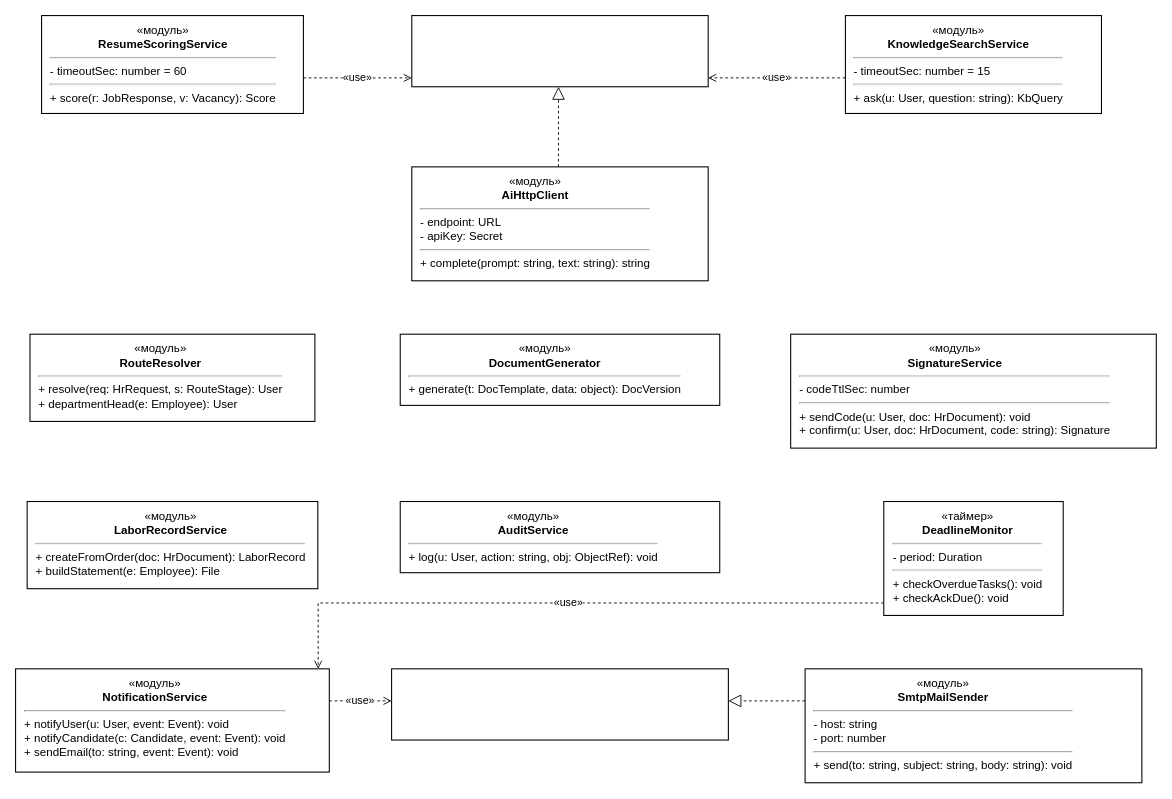
Image size: 1172x799. Some labels were removed from this diagram. Here are the shapes that lost their labels. From the top down, the centre of each, then its label:
At point 559,51: "«interface» IAiClient + complete(prompt: string, text: string): string".
At point 559,704: "«interface» IMailSender + send(to: string, subject: string, body: string): void".
